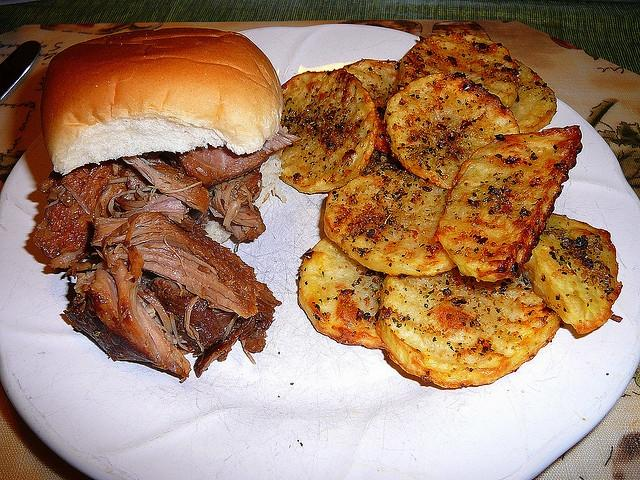potato: (433, 126, 583, 282), (375, 267, 564, 389), (384, 71, 520, 190), (323, 169, 458, 277), (280, 69, 380, 194), (522, 214, 623, 334), (298, 238, 388, 348), (399, 33, 520, 108), (342, 58, 400, 154), (510, 59, 558, 133)
